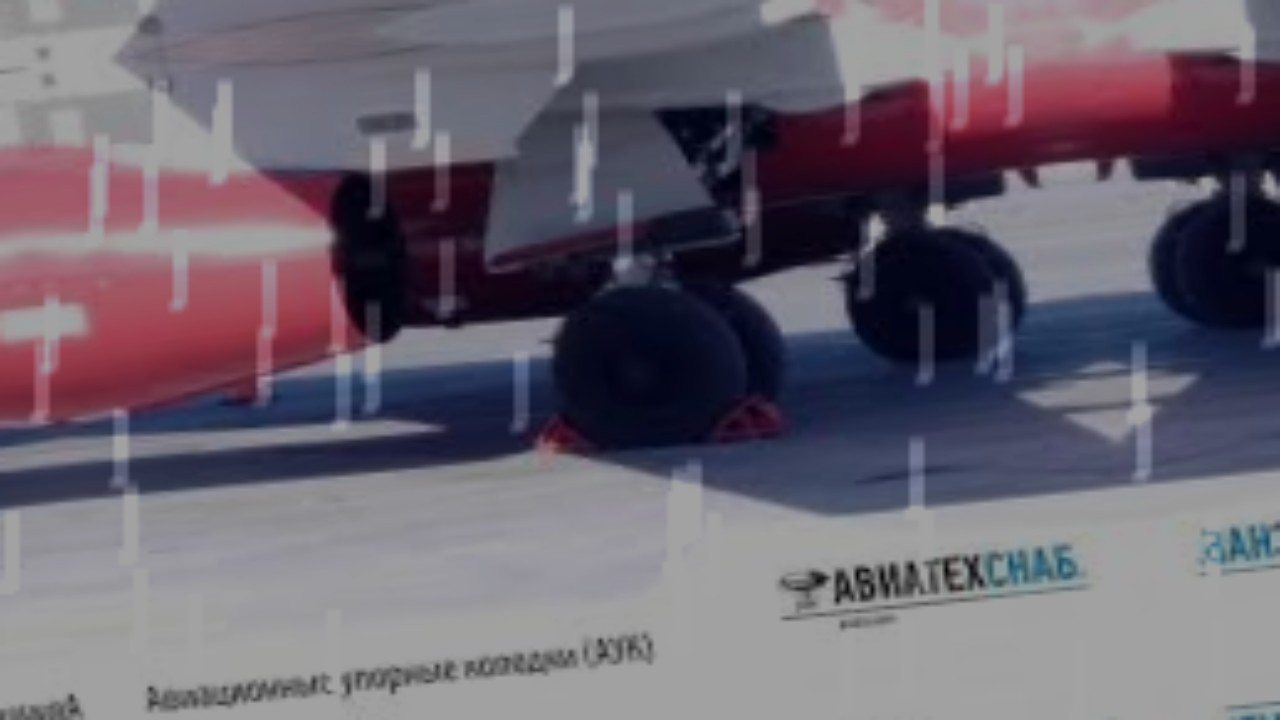chock: (703, 385, 799, 443), (521, 405, 609, 459)
wheel: (536, 274, 760, 459), (824, 218, 1041, 375), (1138, 185, 1280, 342)
